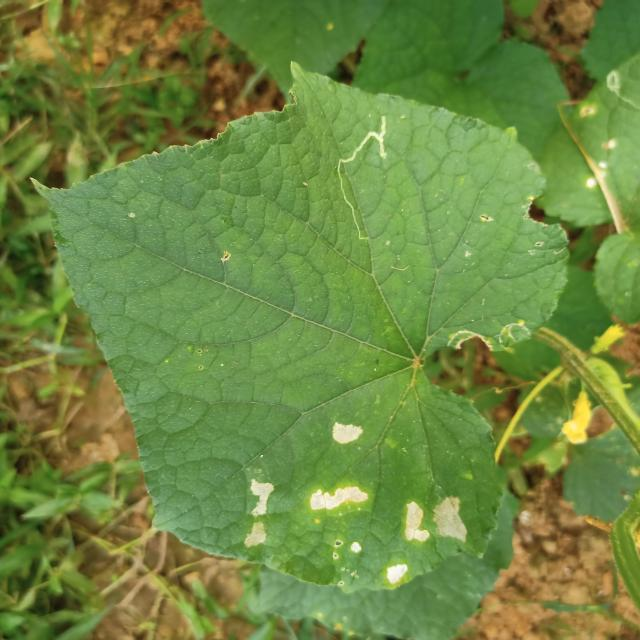disease_cucumber: (303, 479, 473, 586), (244, 474, 273, 552), (326, 418, 367, 449)
